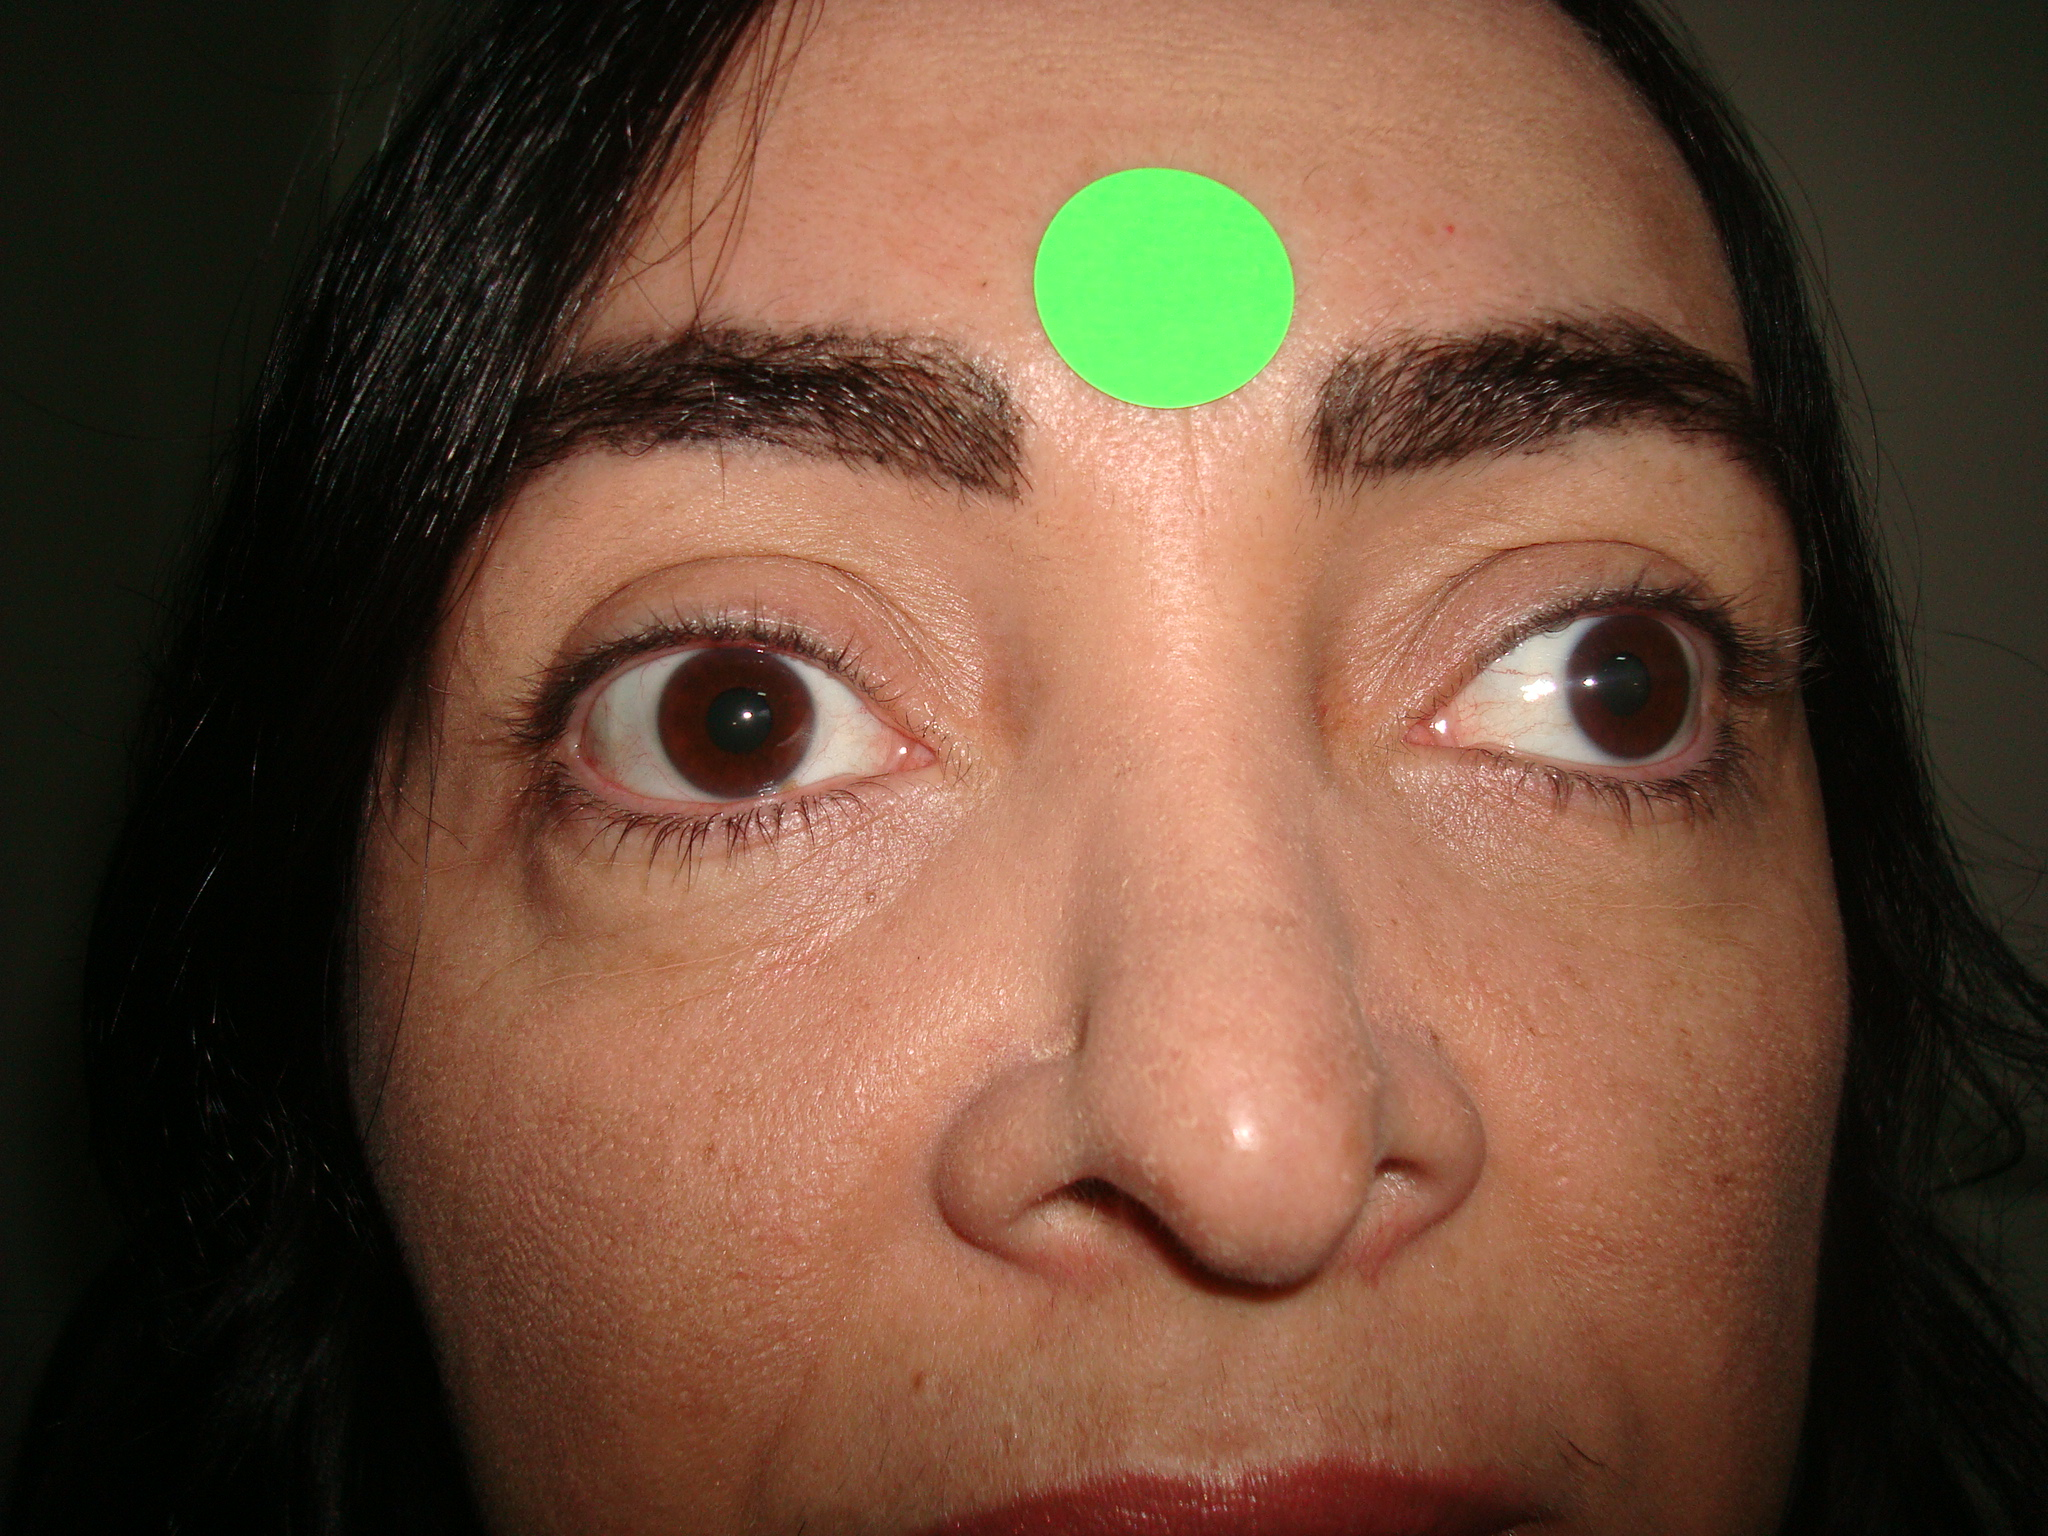flash: (737, 703, 756, 726), (1580, 674, 1598, 691)
limbo: (661, 645, 811, 795), (1563, 610, 1682, 758)
